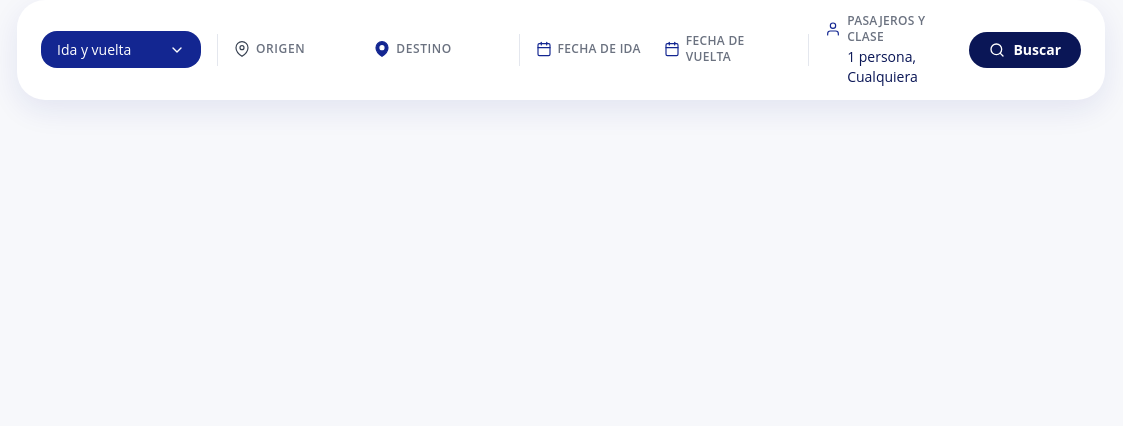
Test case: SearchBar — carrera al cambiar el origen (LLE-355) › resuelve el origen B antes que el A → allowedDestinationIds corresponde a B, no a A
The width and height of the screenshot is (1123, 426).
seleccionar origen A: "Buenos Aires" (ar-1)
What coordinates should you click on to do the following:
click the text "Origen"
I would click on:
 (281, 49)
Its box is x1=256 y1=40 x2=305 y2=58.
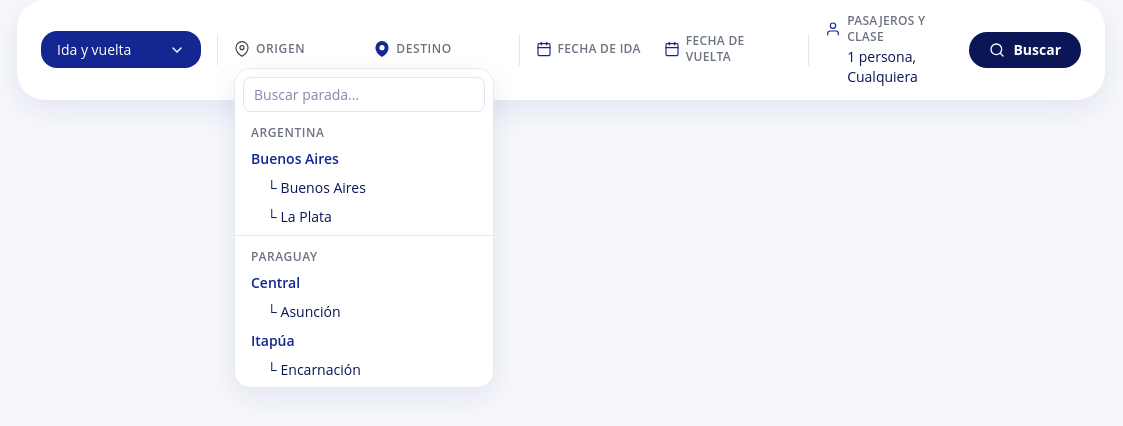
What coordinates should you click on to do the following:
click the text "└ Buenos Aires"
I would click on:
 (316, 187)
Its box is x1=267 y1=178 x2=366 y2=197.
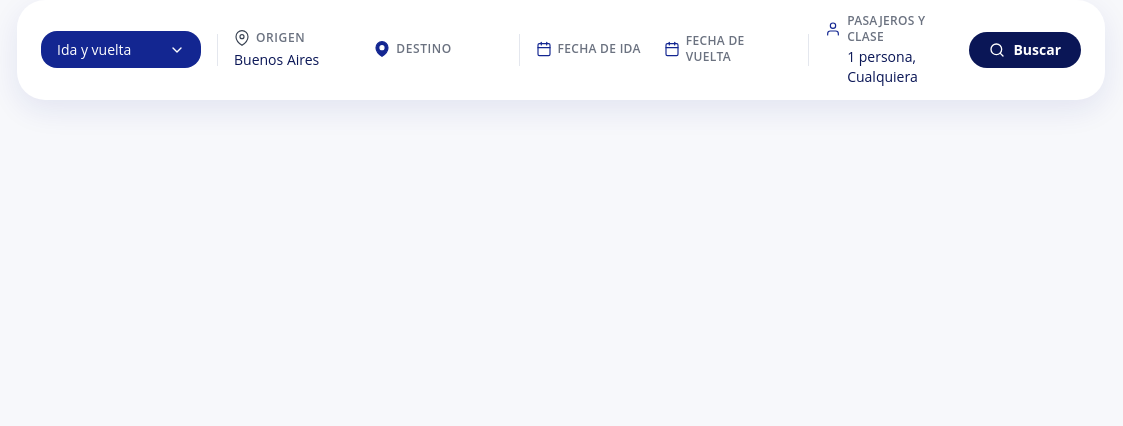
seleccionar origen B: "La Plata" (ar-2) — sin esperar a que A resuelva
What coordinates should you click on to do the following:
click the text "Origen"
I would click on:
 (281, 38)
Its box is x1=256 y1=29 x2=305 y2=47.
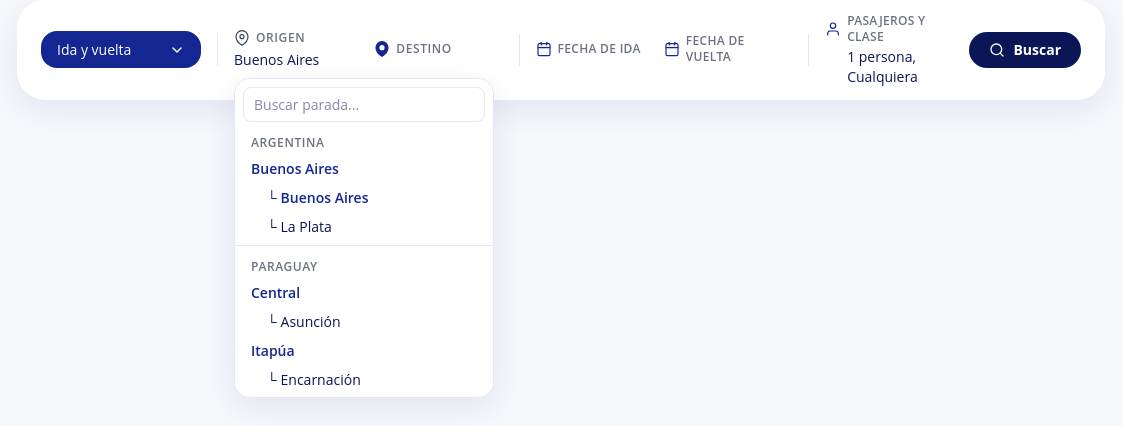
What coordinates should you click on to do the following:
click the text "└ La Plata"
I would click on:
 (299, 227)
Its box is x1=267 y1=217 x2=332 y2=236.
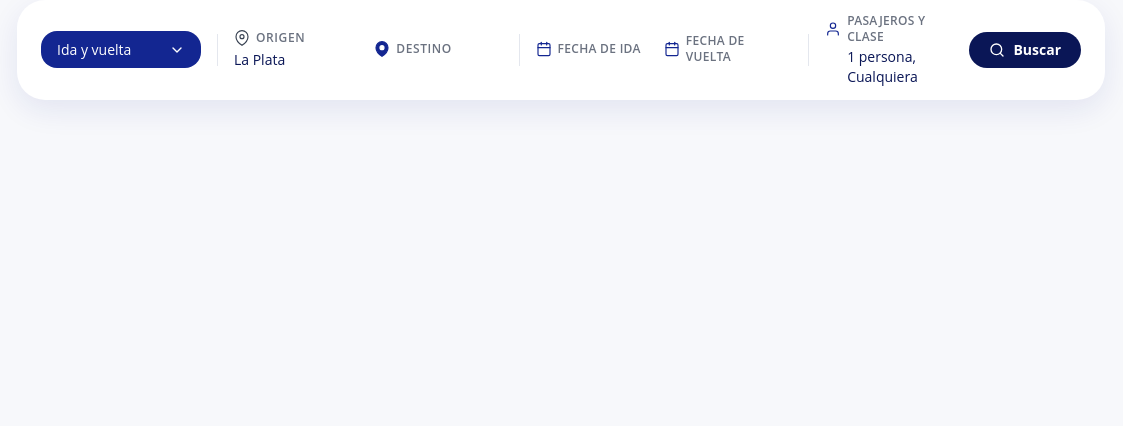
abrir destino: debe reflejar lo que trajo B, no lo que trajo A
What coordinates should you click on to do the following:
click the text "Destino"
I would click on:
 (424, 49)
Its box is x1=396 y1=40 x2=452 y2=58.
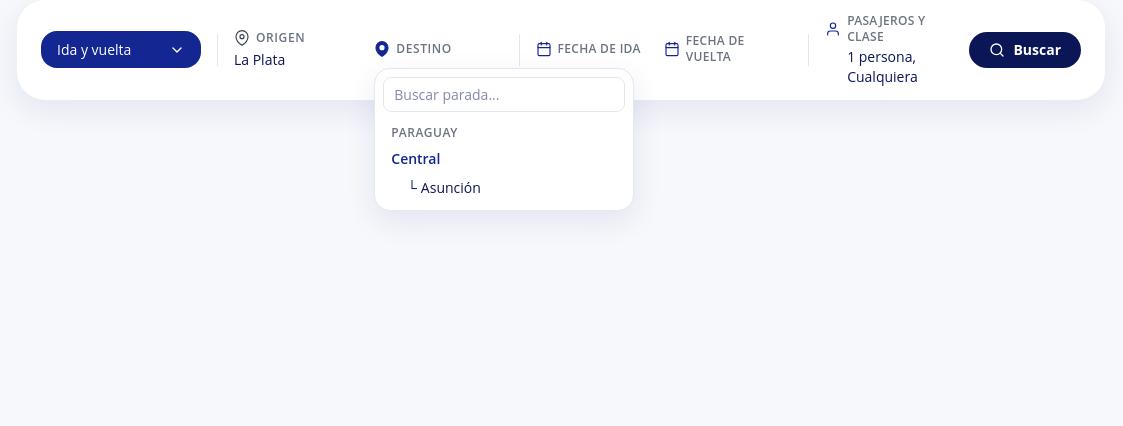
Expected: the text "Encarnación" is not shown
Expected: the text "└ Asunción" is shown, x1=407 y1=178 x2=481 y2=197
